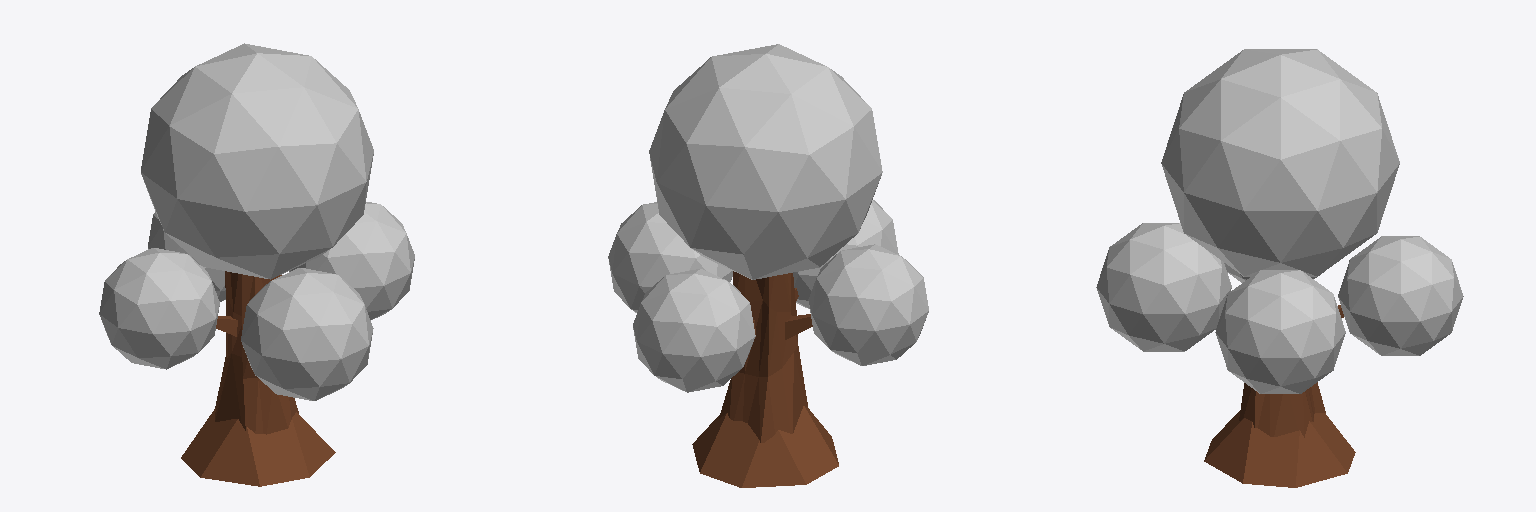
3 renders of one model, left to right at view 1: azimuth 30°, elevation 25°; view 2: azimuth 150°, elevation 25°; view 3: azimuth 270°, elevation 25°, orthographic.
Visible parts, largest first — view 1: Икосфера, Икосфера.002, Икосфера.003, Cube, Икосфера.001, Cube.001, Икосфера.004; view 2: Икосфера, Икосфера.004, Икосфера.003, Cube.001, Cube, Икосфера.001, Икосфера.002; view 3: Икосфера, Икосфера.002, Икосфера.001, Икосфера.004, Cube, Cube.001.
Boxes of the visible parts, box(x1,y1,x2,y2) form: Икосфера: box(141, 43, 373, 279); Икосфера.002: box(241, 268, 373, 400); Икосфера.003: box(99, 248, 219, 369); Cube: box(181, 408, 335, 486); Икосфера.001: box(289, 202, 414, 319); Cube.001: box(215, 271, 298, 434); Икосфера.004: box(148, 212, 225, 301); Икосфера: box(649, 44, 882, 279); Икосфера.004: box(633, 269, 755, 392); Икосфера.003: box(808, 244, 928, 365); Cube.001: box(719, 271, 807, 442); Cube: box(692, 406, 838, 487); Икосфера.001: box(608, 202, 732, 312); Икосфера.002: box(793, 200, 898, 308); Икосфера: box(1161, 49, 1399, 276); Икосфера.002: box(1096, 223, 1231, 351); Икосфера.001: box(1215, 270, 1345, 393); Икосфера.004: box(1338, 236, 1463, 355); Cube: box(1204, 411, 1355, 487); Cube.001: box(1239, 382, 1325, 437).
Bounding box in the file's own units: 20.43 × 26.4 × 21.74.
2 materials, 1 textured.